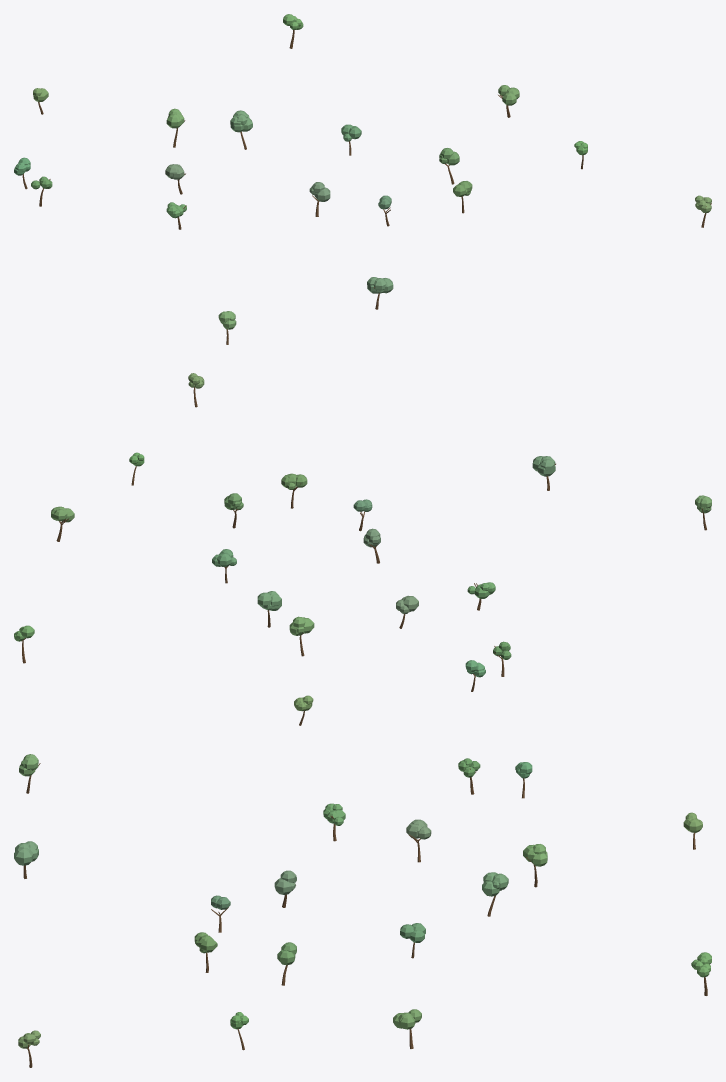
The model's file is oakTrees.glb.
3 views of the same model, one above another, from view 1: azimuth 30°, elevation 25°; view 2: azimuth 150°, elevation 25°; view 3: azimuth 270°, elevation 25° (orthographic). The views are drawn at different scales.
Visible parts, largest first — view 1: no part large enough to name; view 2: no part large enough to name; view 3: oak_02, oak_cluster_11_0, oak_cluster_07_2, oak_cluster_01_1.
Boxes of the visible parts, x1,y1,x2,y2 form: oak_02: [482, 872, 508, 916]; oak_cluster_11_0: [14, 841, 38, 878]; oak_cluster_07_2: [523, 844, 547, 887]; oak_cluster_01_1: [393, 1009, 421, 1048].
Bounding box in the file's own units: 96.78 × 6.95 × 101.
